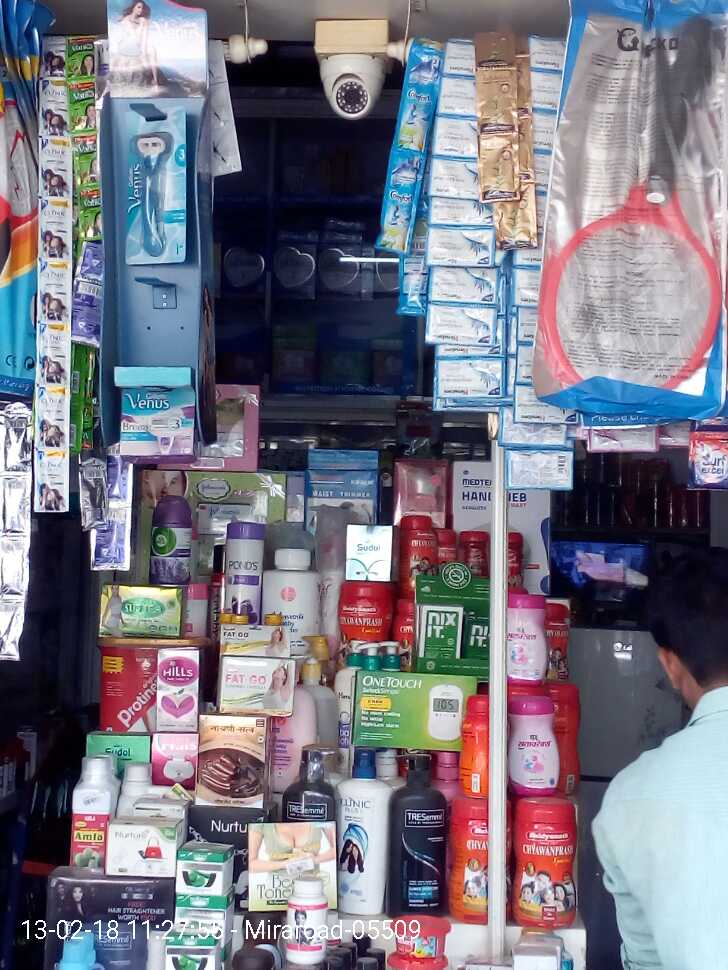beauty: (119, 110, 189, 268), (115, 380, 196, 456)
